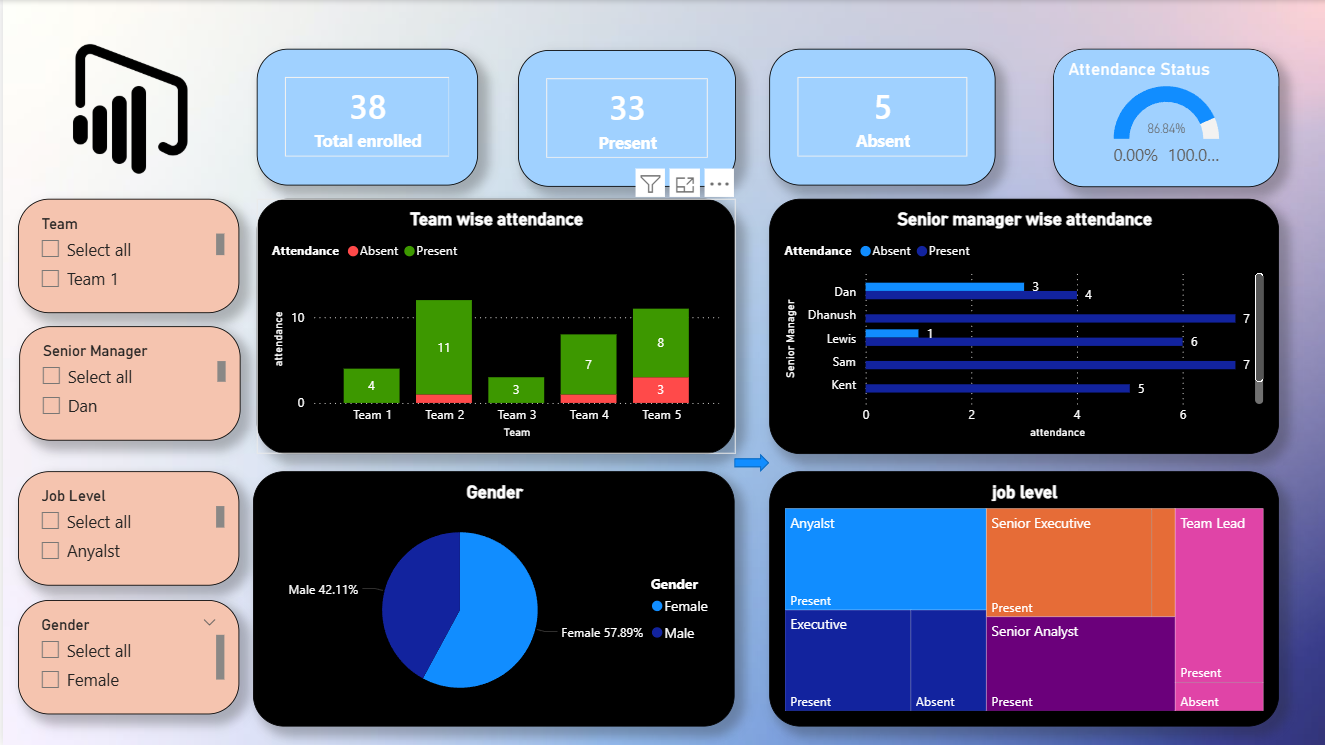

What the dashboard file says about the page in this screenshot:
{"tool":"powerbi","page":{"name":"Page 1","canvas":[1280,720],"ordinal":0},"visuals":[{"type":"cardVisual","fields":{"Data":["CountNonNull(Data.Please enter your Employee ID:)"]},"box":[245,46.7,213.3,131.7],"z":0},{"type":"cardVisual","fields":{"Data":["CountNonNull(Data.Please enter your Employee ID:)"]},"box":[496.7,48.3,210,131.7],"z":1000},{"type":"cardVisual","fields":{"Data":["CountNonNull(Data.Please enter your Employee ID:)"]},"box":[740,46.7,218.3,131.7],"z":2000},{"type":"gauge","fields":{"Y":["Avg(Data.Attendance Status)"]},"box":[1013.3,46.7,218.3,133.3],"z":3000},{"type":"columnChart","title":"Team wise attendance","fields":{"Category":["Data.Team"],"Y":["CountNonNull(Data.Please enter your Employee ID:)"],"Series":["Data.Attendance"]},"box":[245,191.7,461.7,246.7],"z":4000},{"type":"clusteredBarChart","title":"Senior manager wise attendance","fields":{"Y":["CountNonNull(Data.Please enter your Employee ID:)"],"Series":["Data.Attendance"],"Category":["Data.Senior Manager"]},"box":[740,191.7,491.7,246.7],"z":5000},{"type":"pieChart","title":"Gender","fields":{"Y":["CountNonNull(Data.Please enter your Employee ID:)"],"Category":["Data.Gender"]},"box":[241.7,455,465,246.7],"z":6000},{"type":"treemap","title":"job level","fields":{"Values":["CountNonNull(Data.Please enter your Employee ID:)"],"Details":["Data.Attendance"],"Group":["Data.Job Level"]},"box":[740,455,491.7,246.7],"z":7000},{"type":"slicer","fields":{"Values":["Data.Team"]},"box":[15,191.2,213.8,110],"z":8000},{"type":"slicer","fields":{"Values":["Data.Senior Manager"]},"box":[16.2,315,213.8,110],"z":9000},{"type":"slicer","fields":{"Values":["Data.Job Level"]},"box":[15,455,213.8,110],"z":10000},{"type":"slicer","fields":{"Values":["Data.Gender"]},"box":[15,578.8,213.8,110],"z":11000},{"type":"shape","box":[706.2,437.5,33.8,17.5],"z":12000},{"type":"image","box":[15,29,214,150],"z":13000}]}

Visuals, with their boxes in screenshot pixels (x1, y1, x2, y2), scaled from the page's 1280x720 canvas onto the 1325x745 screenshot:
cardVisual - CountNonNull(Data.Please enter your Employee ID:): detection(254, 48, 474, 185)
cardVisual - CountNonNull(Data.Please enter your Employee ID:): detection(514, 50, 732, 186)
cardVisual - CountNonNull(Data.Please enter your Employee ID:): detection(766, 48, 992, 185)
gauge - Avg(Data.Attendance Status): detection(1049, 48, 1275, 186)
"Team wise attendance" columnChart: detection(254, 198, 732, 454)
"Senior manager wise attendance" clusteredBarChart: detection(766, 198, 1275, 454)
"Gender" pieChart: detection(250, 471, 732, 726)
"job level" treemap: detection(766, 471, 1275, 726)
slicer - Data.Team: detection(16, 198, 237, 312)
slicer - Data.Senior Manager: detection(17, 326, 238, 440)
slicer - Data.Job Level: detection(16, 471, 237, 585)
slicer - Data.Gender: detection(16, 599, 237, 713)
shape: detection(731, 453, 766, 471)
image: detection(16, 30, 237, 185)
